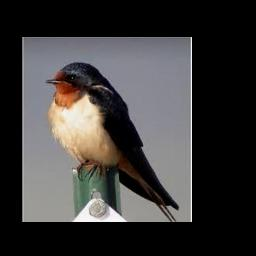Swallow: (45, 61, 180, 222)
